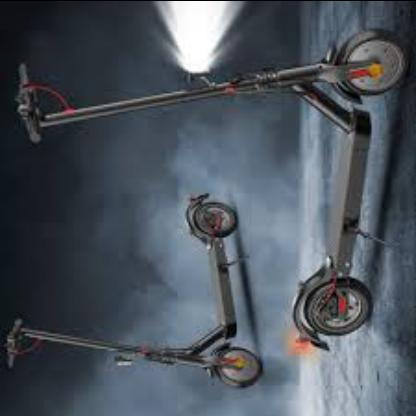bike: (3, 21, 414, 394), (8, 192, 266, 390)
